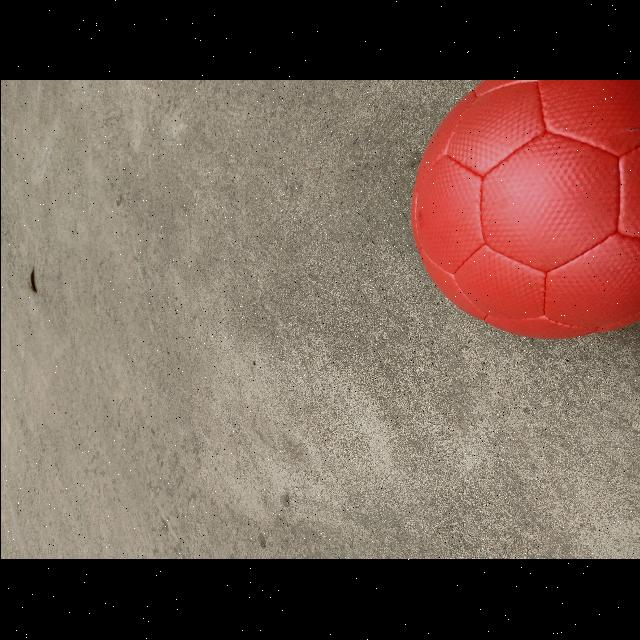R: (410, 80, 640, 340)
